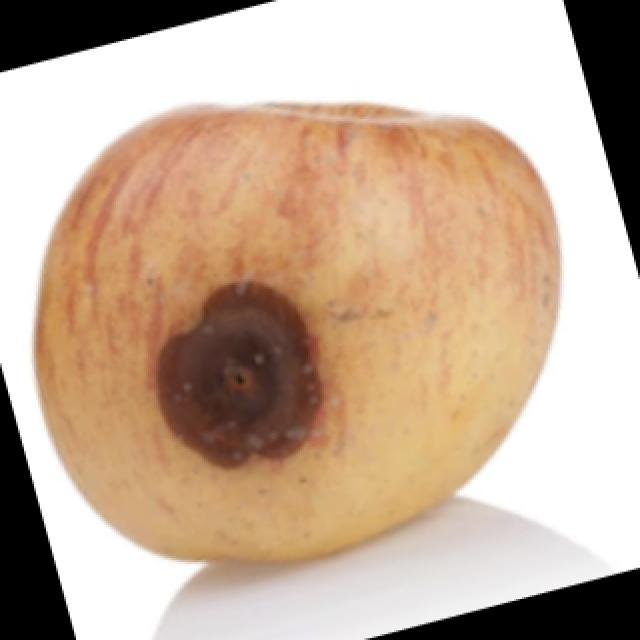Rotten: (58, 102, 535, 568)
